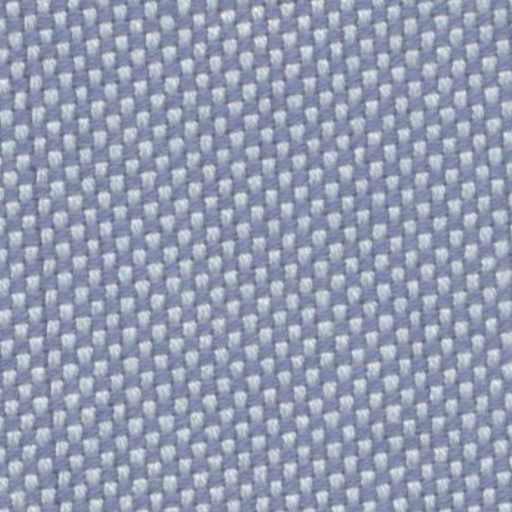TuoSha: (6, 18, 72, 506)
